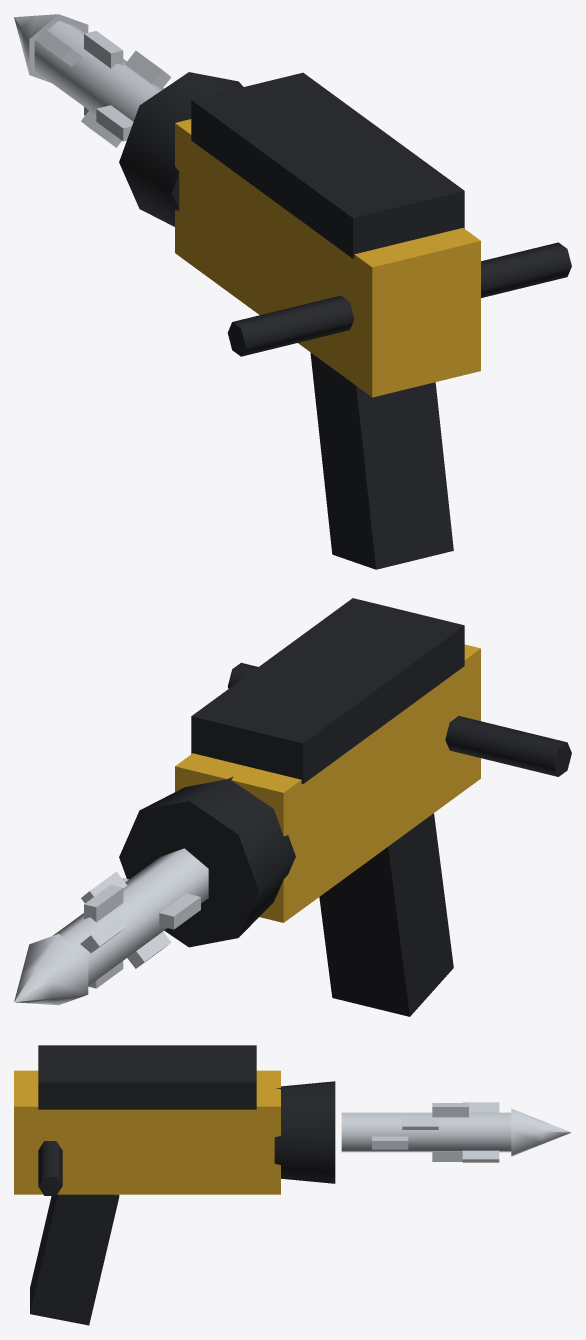
Rendered from tool_rock_drill.glb.
3 renders of one model, top to bottom at view 1: azimuth 30°, elevation 25°; view 2: azimuth 150°, elevation 25°; view 3: azimuth 270°, elevation 25°, orthographic. The views are drawn at different scales.
Visible parts, largest first — view 1: _MeshInstance3D_1222, _MeshInstance3D_1223, _MeshInstance3D_1221, _MeshInstance3D_1226, _MeshInstance3D_1227, _MeshInstance3D_1224, _MeshInstance3D_1225, _MeshInstance3D_1232, _MeshInstance3D_1229, _MeshInstance3D_1230, _MeshInstance3D_1228, _MeshInstance3D_1231; view 2: _MeshInstance3D_1223, _MeshInstance3D_1222, _MeshInstance3D_1221, _MeshInstance3D_1226, _MeshInstance3D_1227, _MeshInstance3D_1224, _MeshInstance3D_1232, _MeshInstance3D_1230, _MeshInstance3D_1229, _MeshInstance3D_1228, _MeshInstance3D_1231; view 3: _MeshInstance3D_1222, _MeshInstance3D_1223, _MeshInstance3D_1221, _MeshInstance3D_1227, _MeshInstance3D_1226, _MeshInstance3D_1232, _MeshInstance3D_1225, _MeshInstance3D_1230, _MeshInstance3D_1231, _MeshInstance3D_1228, _MeshInstance3D_1229.
Boxes of the visible parts, x1=… form: _MeshInstance3D_1222: x1=175, y1=119, x2=480, y2=397; _MeshInstance3D_1223: x1=191, y1=72, x2=464, y2=258; _MeshInstance3D_1221: x1=310, y1=352, x2=453, y2=569; _MeshInstance3D_1226: x1=119, y1=72, x2=243, y2=226; _MeshInstance3D_1227: x1=34, y1=21, x2=163, y2=121; _MeshInstance3D_1224: x1=227, y1=295, x2=354, y2=356; _MeshInstance3D_1225: x1=481, y1=242, x2=571, y2=297; _MeshInstance3D_1232: x1=14, y1=14, x2=88, y2=82; _MeshInstance3D_1229: x1=81, y1=50, x2=171, y2=147; _MeshInstance3D_1230: x1=84, y1=31, x2=123, y2=115; _MeshInstance3D_1228: x1=96, y1=105, x2=133, y2=141; _MeshInstance3D_1231: x1=36, y1=29, x2=82, y2=66; _MeshInstance3D_1223: x1=191, y1=598, x2=464, y2=783; _MeshInstance3D_1222: x1=175, y1=644, x2=480, y2=922; _MeshInstance3D_1221: x1=319, y1=813, x2=453, y2=1016; _MeshInstance3D_1226: x1=119, y1=776, x2=295, y2=947; _MeshInstance3D_1227: x1=53, y1=848, x2=208, y2=985; _MeshInstance3D_1224: x1=445, y1=716, x2=571, y2=776; _MeshInstance3D_1232: x1=14, y1=934, x2=88, y2=1005; _MeshInstance3D_1230: x1=84, y1=884, x2=123, y2=988; _MeshInstance3D_1229: x1=81, y1=871, x2=171, y2=968; _MeshInstance3D_1228: x1=122, y1=878, x2=200, y2=929; _MeshInstance3D_1231: x1=80, y1=915, x2=126, y2=953; _MeshInstance3D_1222: x1=14, y1=1070, x2=280, y2=1194; _MeshInstance3D_1223: x1=38, y1=1045, x2=256, y2=1109; _MeshInstance3D_1221: x1=30, y1=1194, x2=119, y2=1325; _MeshInstance3D_1227: x1=341, y1=1112, x2=511, y2=1152; _MeshInstance3D_1226: x1=274, y1=1081, x2=335, y2=1183; _MeshInstance3D_1232: x1=511, y1=1108, x2=571, y2=1156; _MeshInstance3D_1225: x1=38, y1=1141, x2=62, y2=1195; _MeshInstance3D_1230: x1=432, y1=1103, x2=468, y2=1161; _MeshInstance3D_1231: x1=462, y1=1102, x2=499, y2=1162; _MeshInstance3D_1228: x1=372, y1=1136, x2=408, y2=1149; _MeshInstance3D_1229: x1=402, y1=1117, x2=438, y2=1129.
Bounding box in the file's own units: 0.21 × 0.2264 × 0.46.
